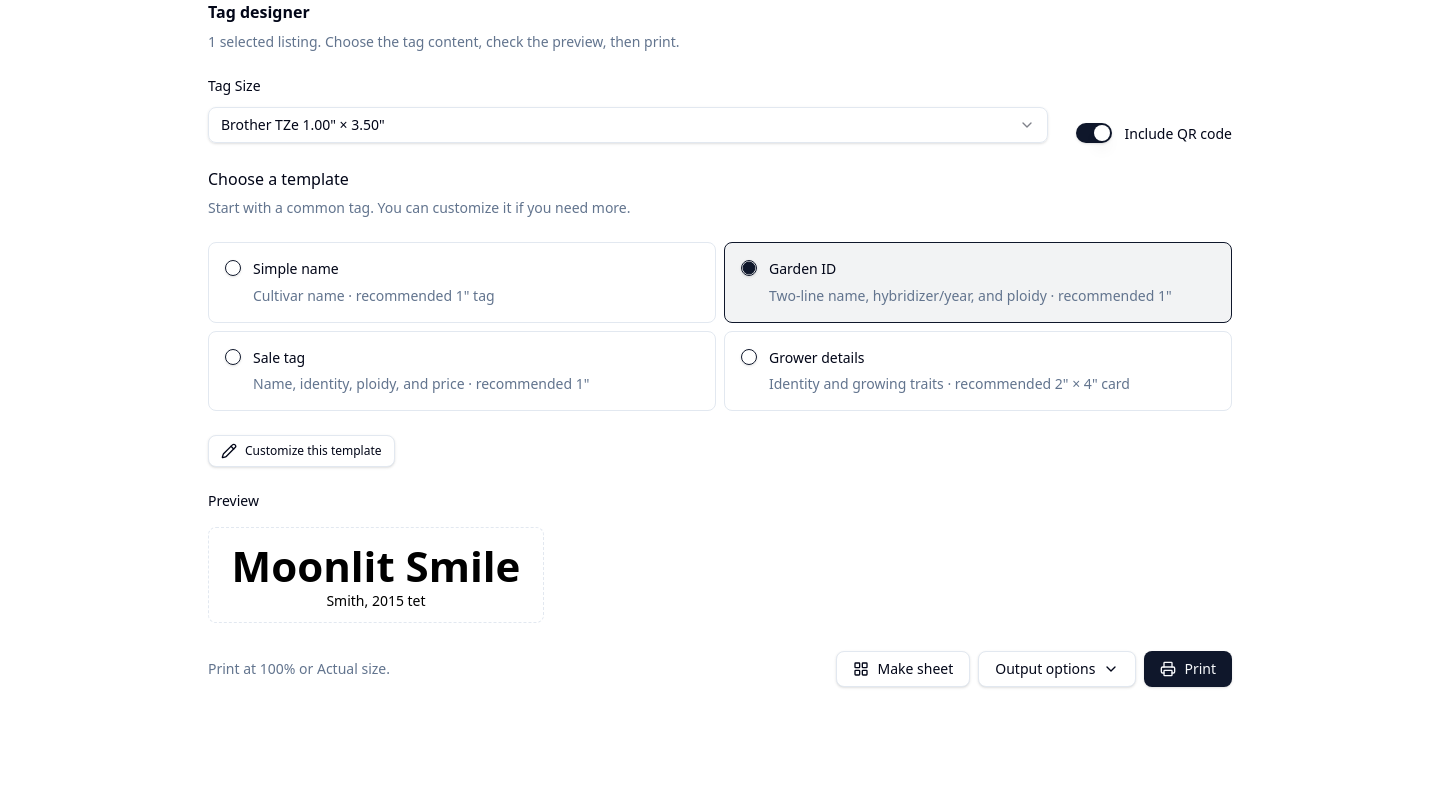
Test: TagDesignerPanel › opens sheet creator dialog from Make Sheet with one-tag defaults
Click the button "Make sheet". click: click(903, 669)
box: [836,651,970,687]
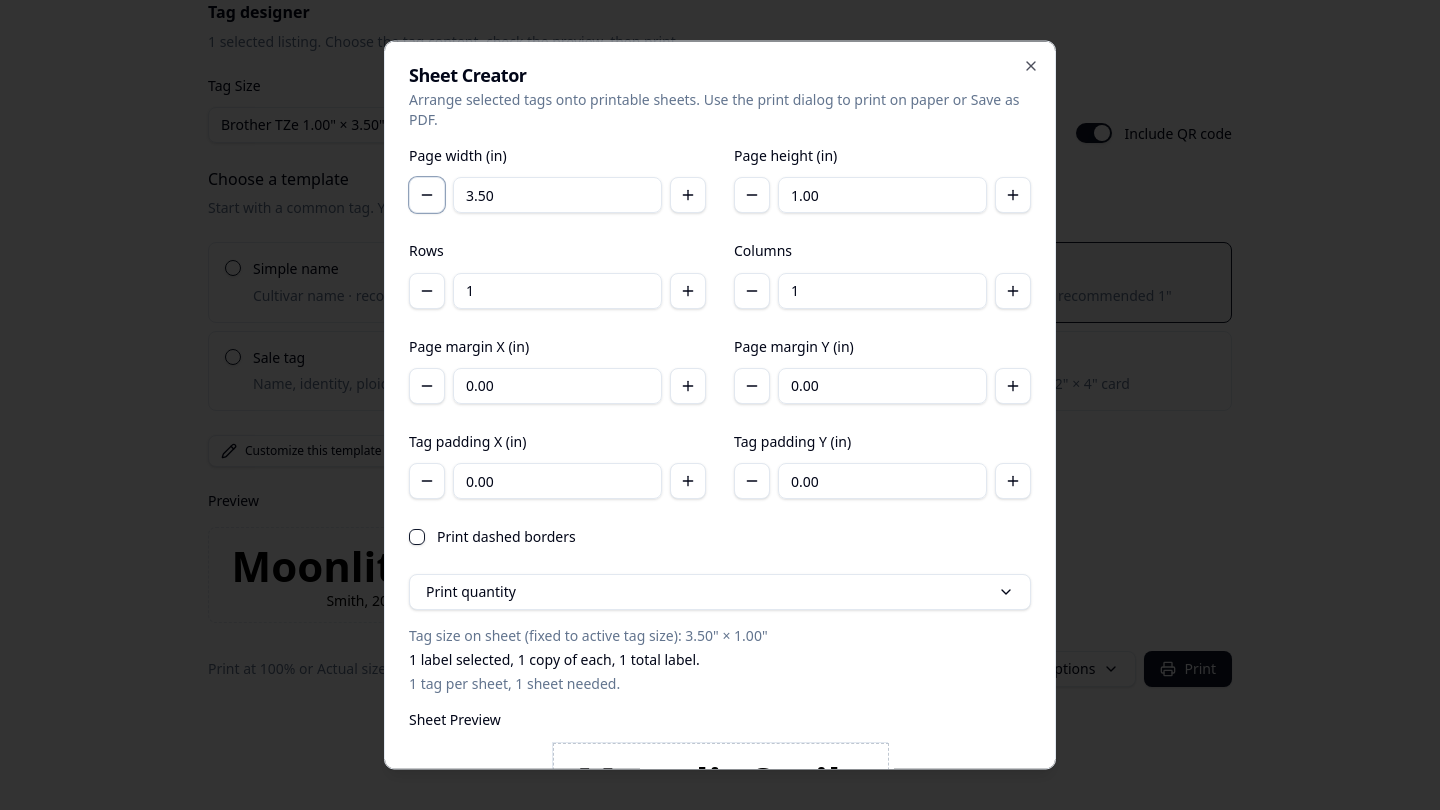
Now the heading "Sheet Creator" is shown, box [409,62,527,86]
Now the number field labelled "Rows" holds "1", box [453,272,662,308]
Now the number field labelled "Columns" holds "1", box [778,272,987,308]
Click the button "Print quantity". click: click(471, 591)
box: [409,574,1031,610]
(page scrolled)
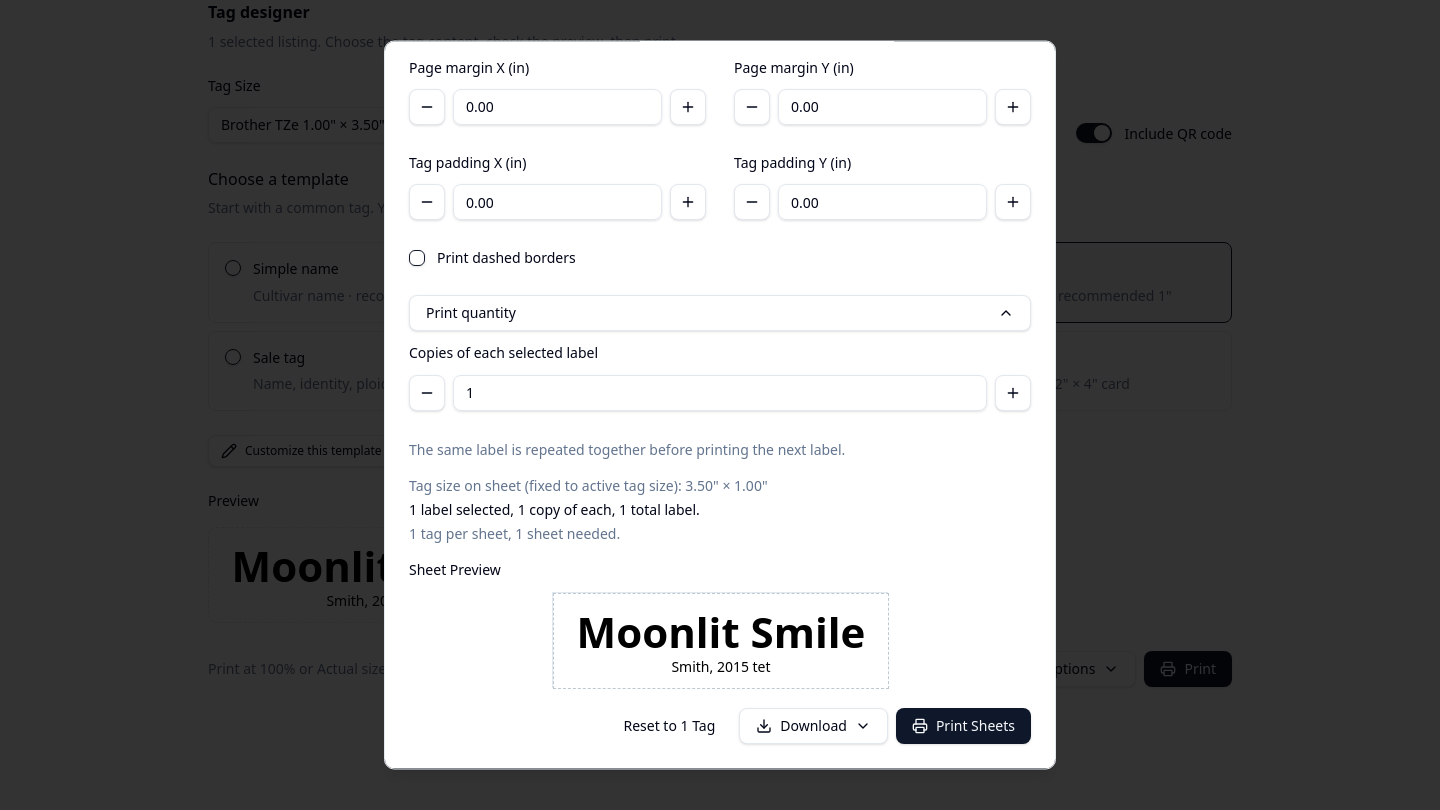
Now the checkbox named "Print dashed borders" is not checked, box [409,250,425,266]
Now the text "1 label selected, 1 copy of each, 1 total label." is shown, box [409,500,700,519]
Now the number field labelled "Copies of each selected label" holds "1", box [453,375,987,411]
